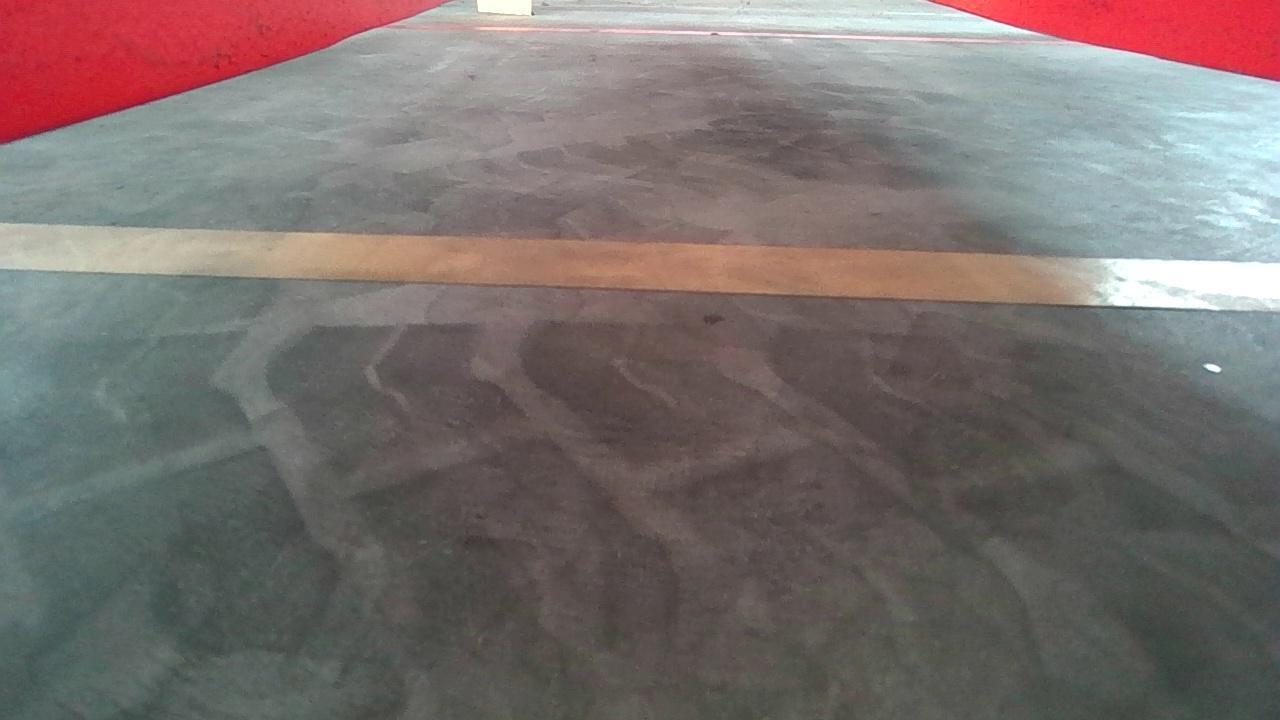yellow_line: (1, 219, 1278, 310)
